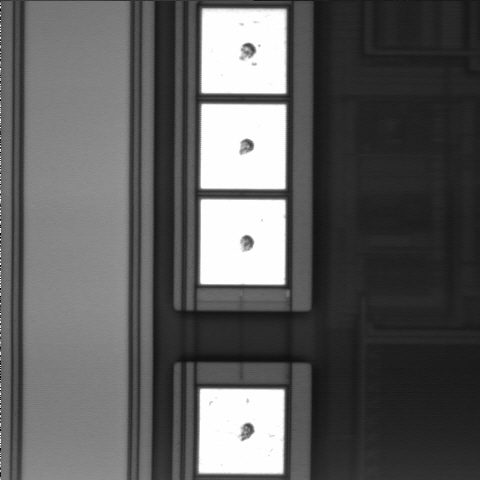pad: (200, 199, 285, 285), (201, 104, 286, 189), (199, 389, 284, 474), (202, 9, 286, 94)
